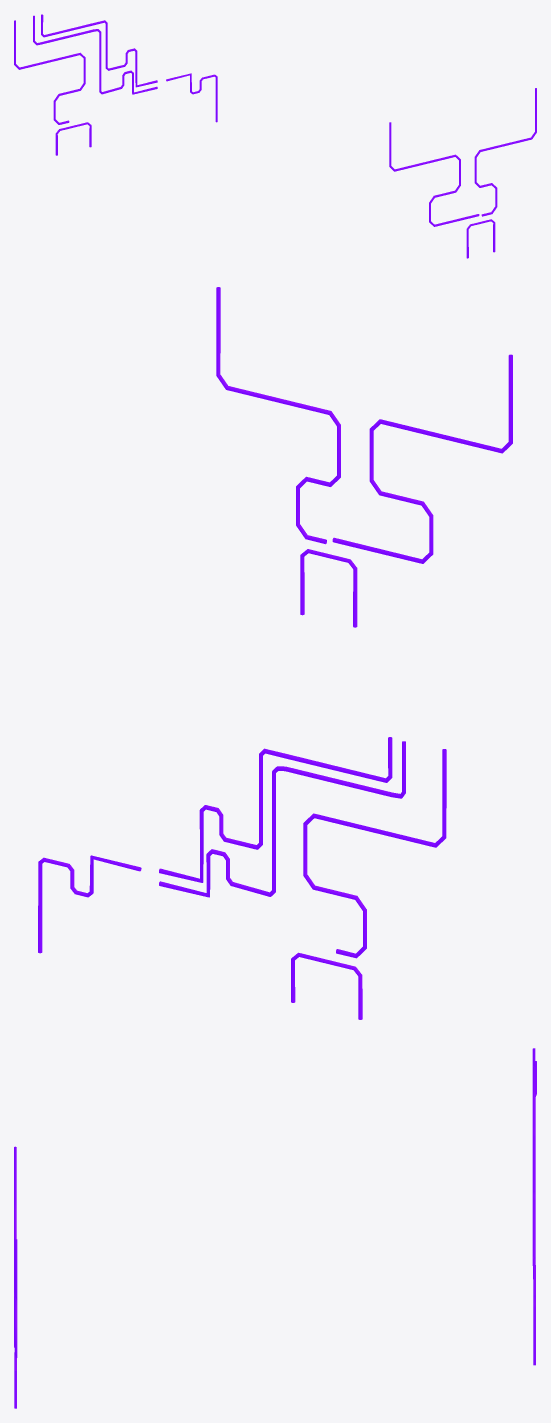
Rendered from smallpipes.fbx.
3 views of the same model, one above another, from view 1: azimuth 30°, elevation 25°; view 2: azimuth 150°, elevation 25°; view 3: azimuth 270°, elevation 25° (orthographic). The views are drawn at different scales.
Parts seen in each view (by area): view 1: pipe 8, pipe 3, pipe 1, pipe 6, pipe 4, pipe 2; view 2: pipe 8, pipe 3, pipe 1, pipe 6, pipe 4, pipe 2, pipe 5; view 3: pipe 1, pipe 4.
Boxes of the visible parts, box(x1,y1,x2,y2) form: pipe 8: box(389, 122, 479, 226); pipe 3: box(33, 15, 157, 94); pipe 1: box(41, 14, 157, 87); pipe 6: box(14, 20, 85, 124); pipe 4: box(474, 88, 536, 216); pipe 2: box(166, 73, 217, 122); pipe 8: box(332, 354, 512, 563); pipe 3: box(159, 741, 405, 897); pipe 1: box(159, 737, 392, 882); pipe 6: box(303, 749, 446, 958); pipe 4: box(216, 287, 340, 544); pipe 2: box(38, 855, 141, 953); pipe 5: box(300, 549, 357, 627); pipe 1: box(532, 1066, 535, 1259); pipe 4: box(14, 1239, 17, 1358).
Size of the model in its own units: 1036 by 485 by 1159.
